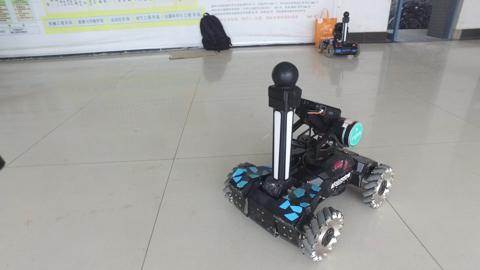bag: (197, 11, 236, 53), (313, 6, 338, 50)
chariot: (223, 59, 395, 264), (317, 9, 361, 59)
